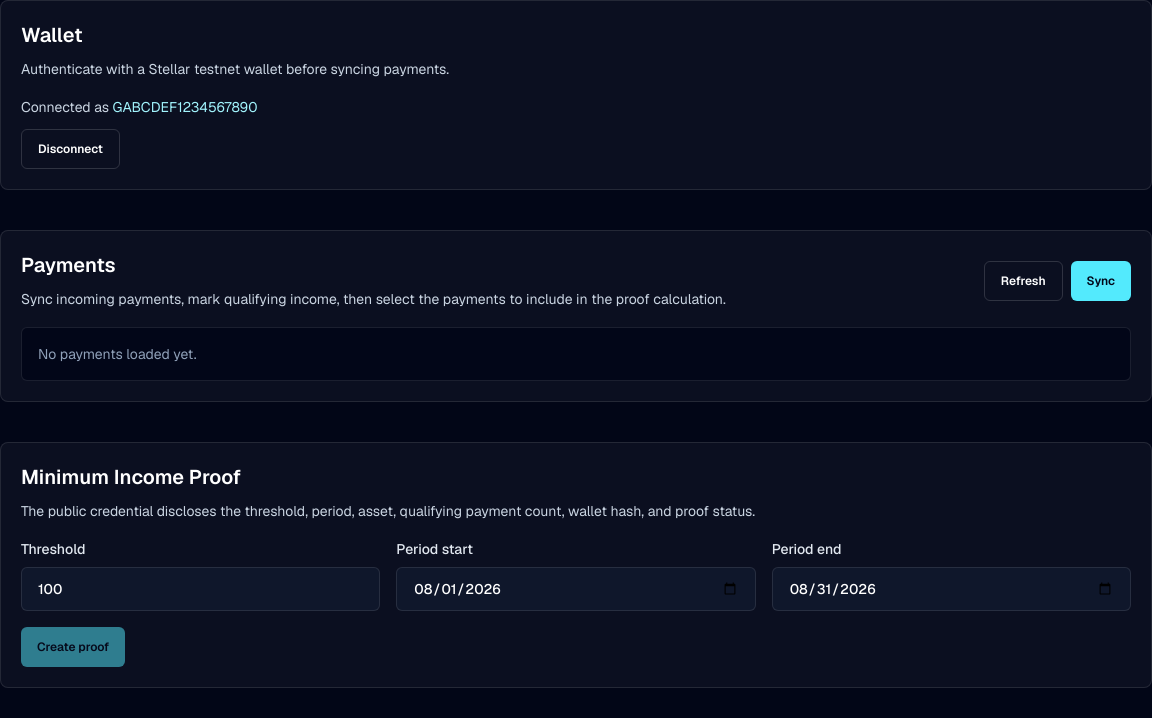
CreateProofFlow late-response ordering › does not resurrect proof/error state after a disconnect while a submission was in flight
The width and height of the screenshot is (1152, 718).
Click the button "Refresh".
click(1023, 281)  # box [984,261,1063,301]
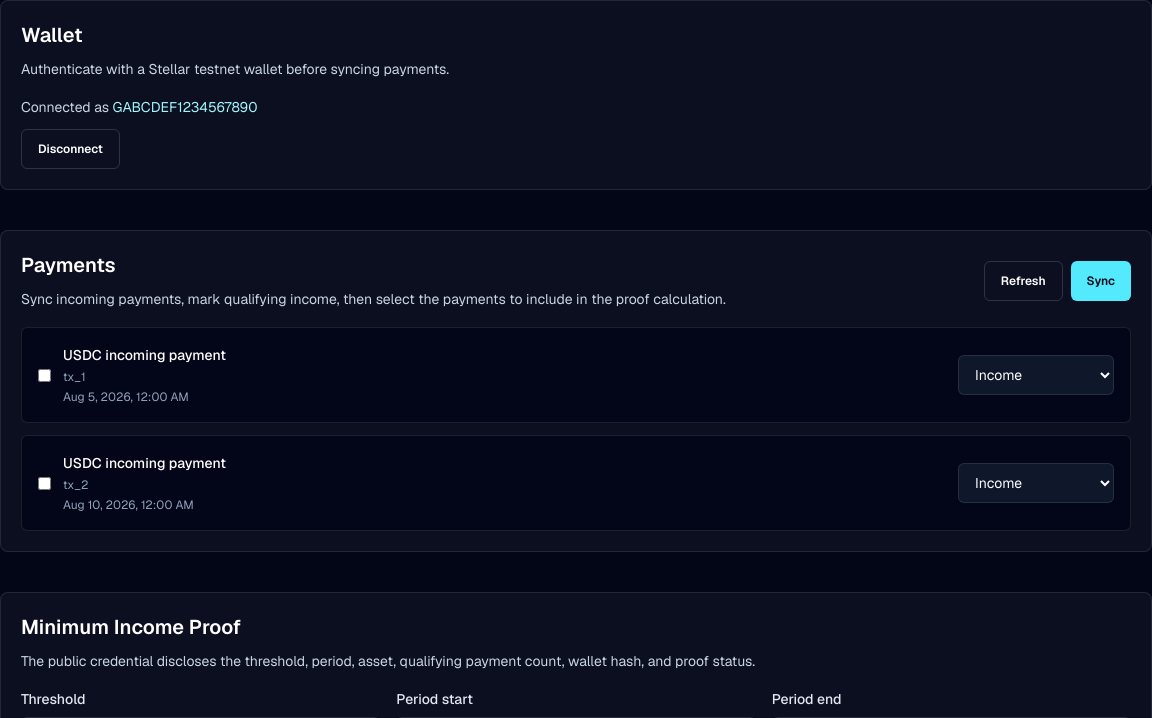
expect the number of checkboxes named "Select payment" is 2: met
Click the checkbox named "Select payment" next to "tx_1".
click(44, 375)  # box [38,368,51,382]
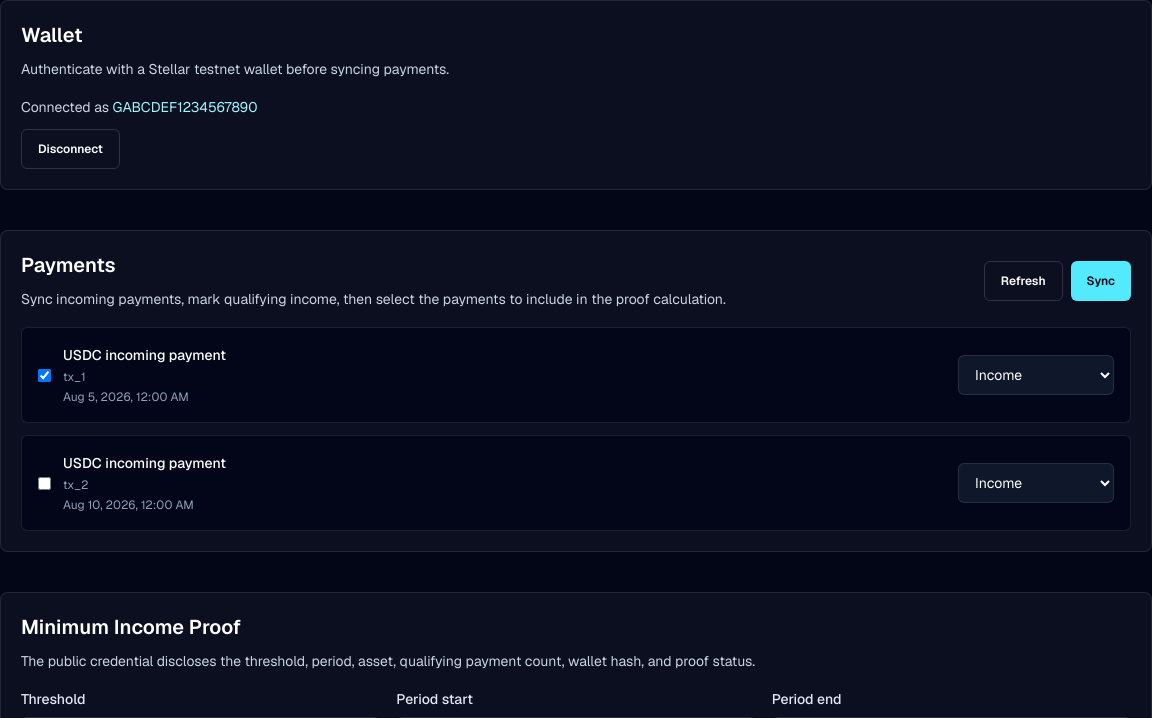
Click the checkbox named "Select payment" next to "tx_2".
click(44, 483)  # box [38,476,51,490]
(page scrolled)
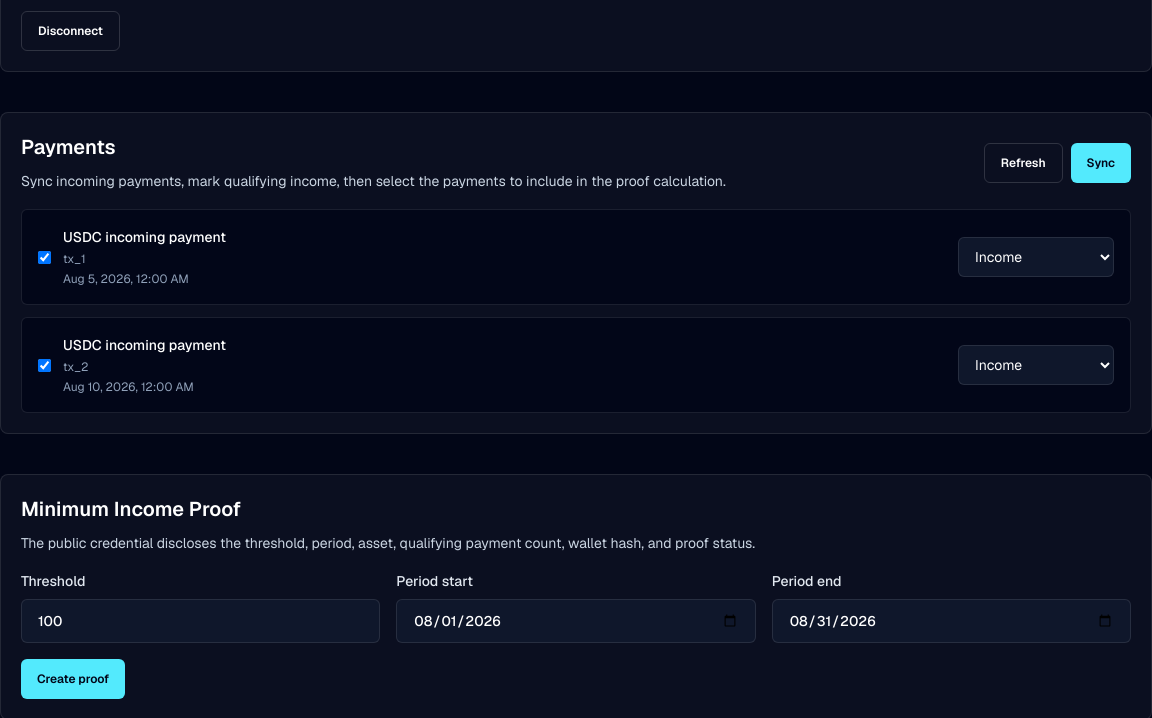
expect the button "Create proof" is enabled: met
Click the button "Create proof".
click(73, 679)  # box [21,659,125,699]
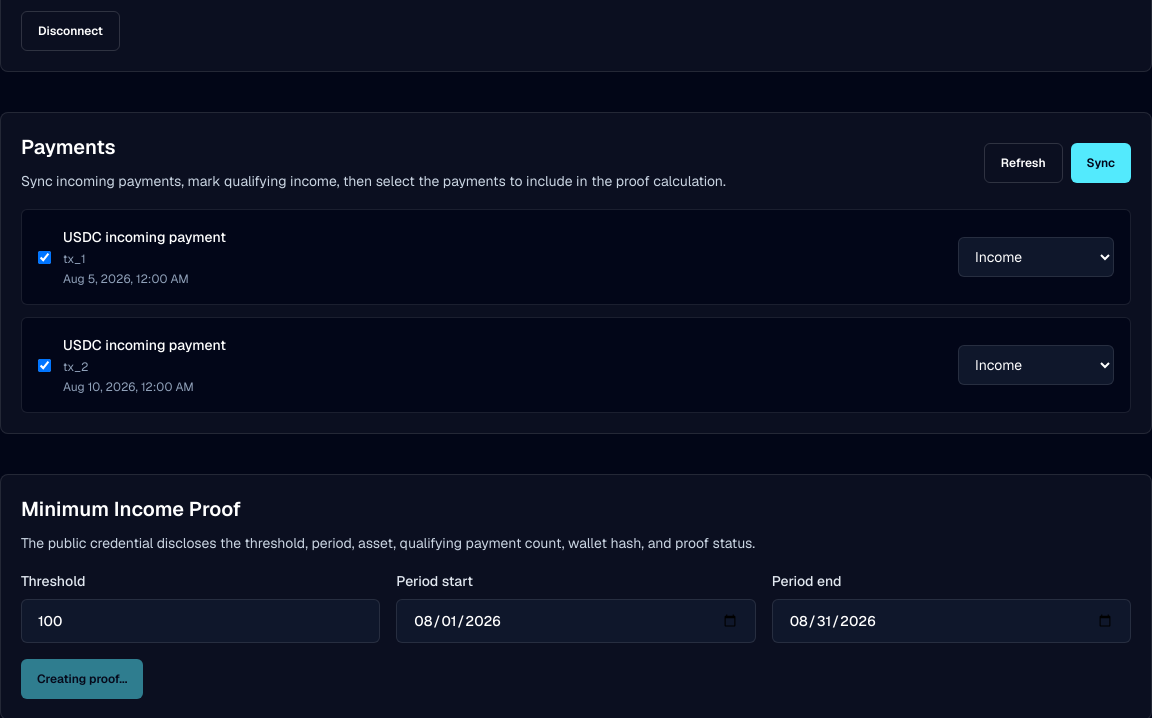
Click the button "Disconnect".
click(70, 31)  # box [21,11,120,51]
(page scrolled)
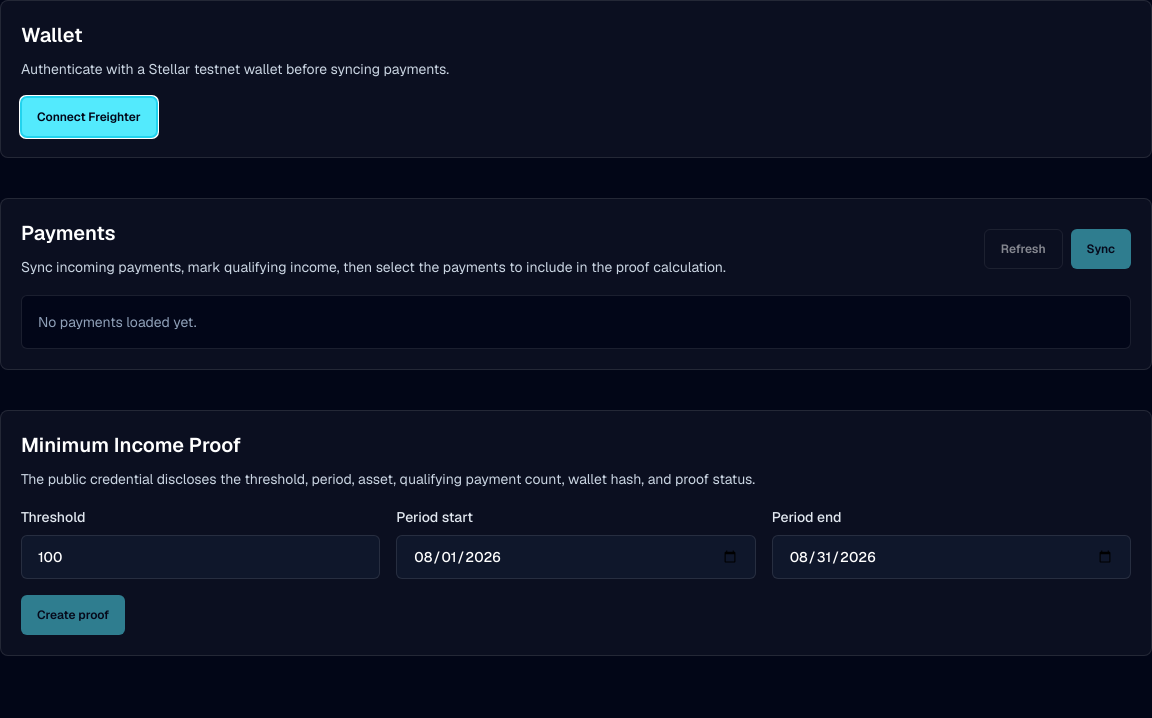
expect the button "Connect Freighter" is shown: met, box [21,97,157,137]
